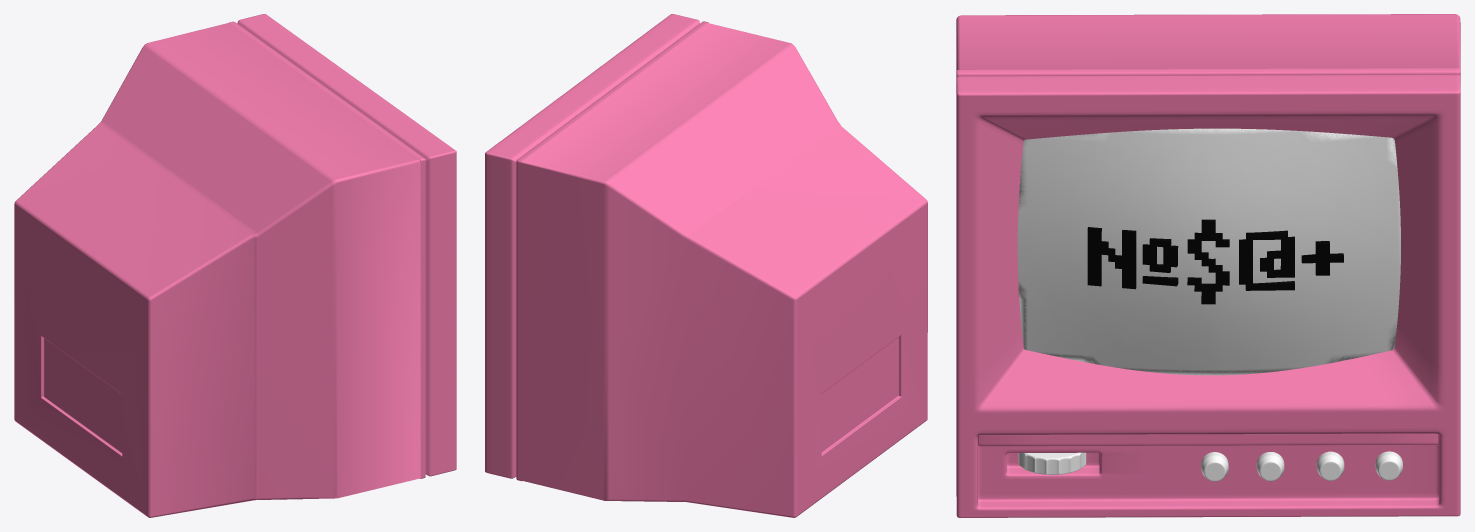
3 renders of one model, left to right at view 1: azimuth 30°, elevation 25°; view 2: azimuth 150°, elevation 25°; view 3: azimuth 270°, elevation 25°, orthographic. The views are drawn at different scales.
Parts seen in each view (by area): view 1: TV, Crt tv 02-Freepoly.org; view 2: TV, Crt tv 02-Freepoly.org; view 3: Crt tv 02-Freepoly.org, TV, Curve.003, Curve.001, Curve.002, Curve.
Boxes of the visible parts, left/top/right/bottom form: TV: left=14, top=23, right=420, bottom=517; Crt tv 02-Freepoly.org: left=229, top=14, right=456, bottom=478; TV: left=518, top=23, right=927, bottom=517; Crt tv 02-Freepoly.org: left=485, top=14, right=708, bottom=481; Crt tv 02-Freepoly.org: left=956, top=68, right=1460, bottom=517; TV: left=956, top=14, right=1460, bottom=85; Curve.003: left=1087, top=227, right=1178, bottom=289; Curve.001: left=1239, top=230, right=1294, bottom=290; Curve.002: left=1187, top=219, right=1229, bottom=304; Curve: left=1301, top=241, right=1343, bottom=275.
Size of the model in its own units: 1.12 by 1.2 by 1.29.
